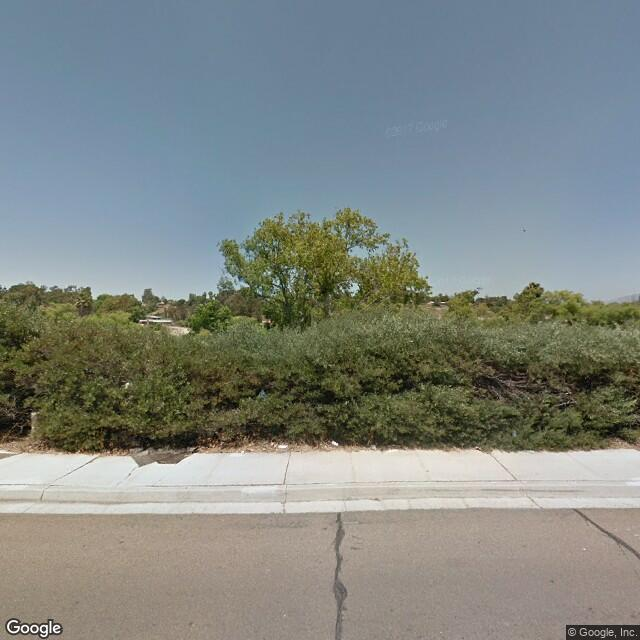litter: (130, 446, 190, 467), (329, 437, 340, 448), (277, 444, 290, 451)
